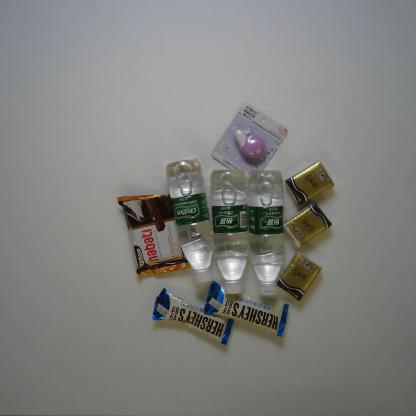Chocolate: (204, 278, 290, 338), (151, 285, 235, 346)
Dessert: (117, 188, 193, 279)
Drink: (165, 158, 214, 284), (245, 164, 288, 296), (209, 169, 250, 297)
Stationery: (209, 103, 293, 177)
Tissue: (285, 154, 336, 204), (282, 200, 333, 249), (276, 250, 323, 302)
